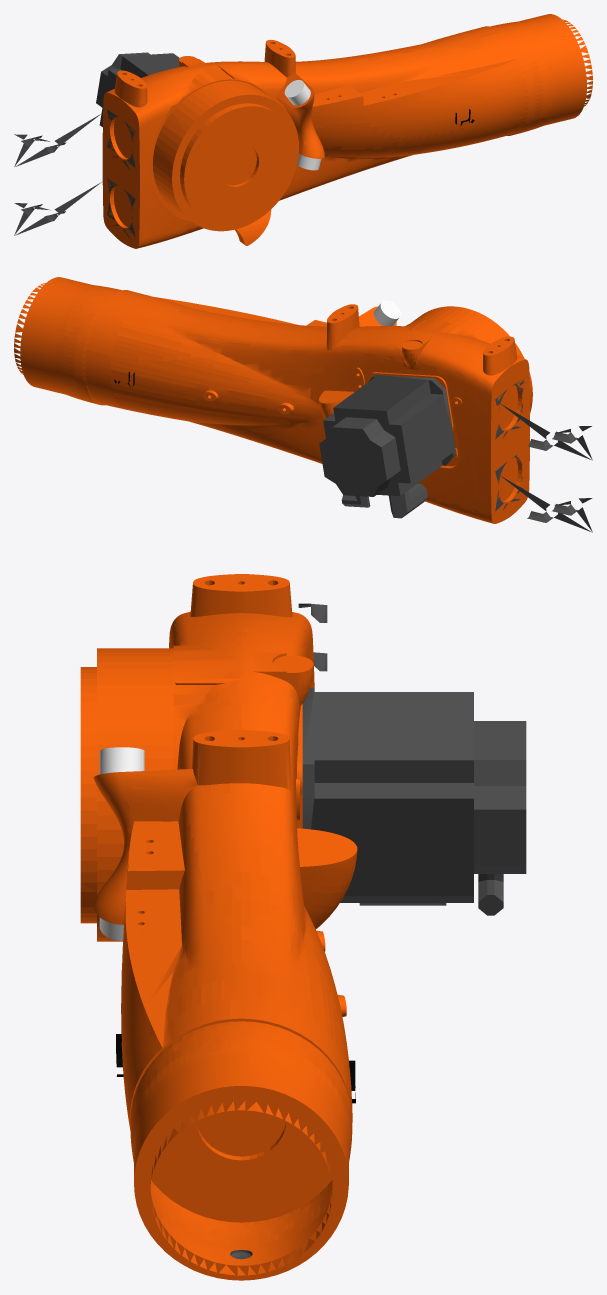
The model's file is KR210R2700prime_KRxxxL1200prime.3_3_Rep.dae.
3 renders of one model, top to bottom at view 1: azimuth 30°, elevation 25°; view 2: azimuth 150°, elevation 25°; view 3: azimuth 270°, elevation 25°, orthographic. The views are drawn at different scales.
Parts seen in each view (by area): view 1: KR210R2700prime_KRxxxL1200prime.3_3 (×3); view 2: KR210R2700prime_KRxxxL1200prime.3_3 (×3); view 3: KR210R2700prime_KRxxxL1200prime.3_3 (×3).
Part boxes in pixels (x1=…): KR210R2700prime_KRxxxL1200prime.3_3 (×3): x1=14, y1=14, x2=592, y2=248; KR210R2700prime_KRxxxL1200prime.3_3 (×3): x1=14, y1=277, x2=592, y2=532; KR210R2700prime_KRxxxL1200prime.3_3 (×3): x1=80, y1=574, x2=526, y2=1280.
Bounding box in the file's own units: 1386 × 494 × 429.
